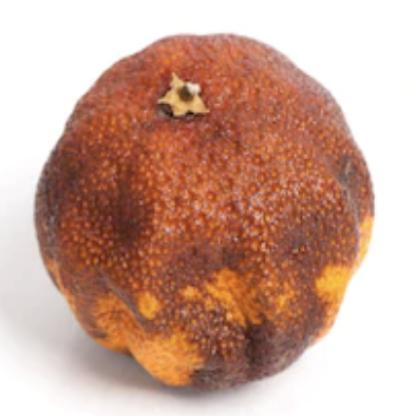rotten: (36, 33, 375, 392)
